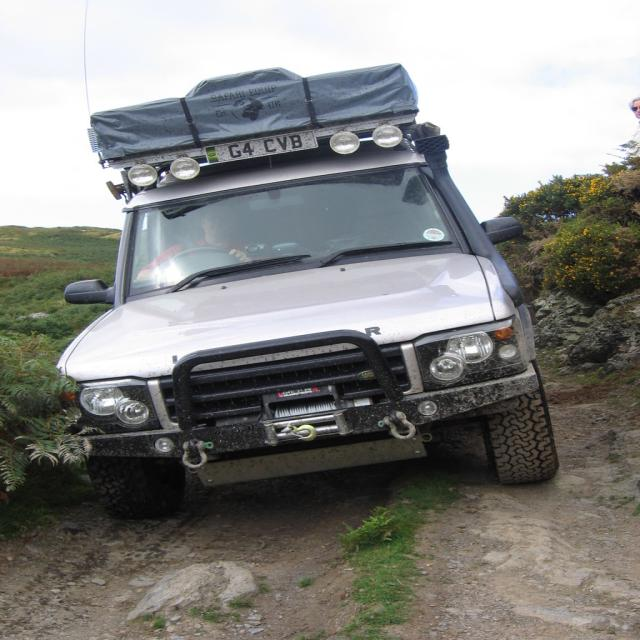car: (46, 58, 562, 518)
